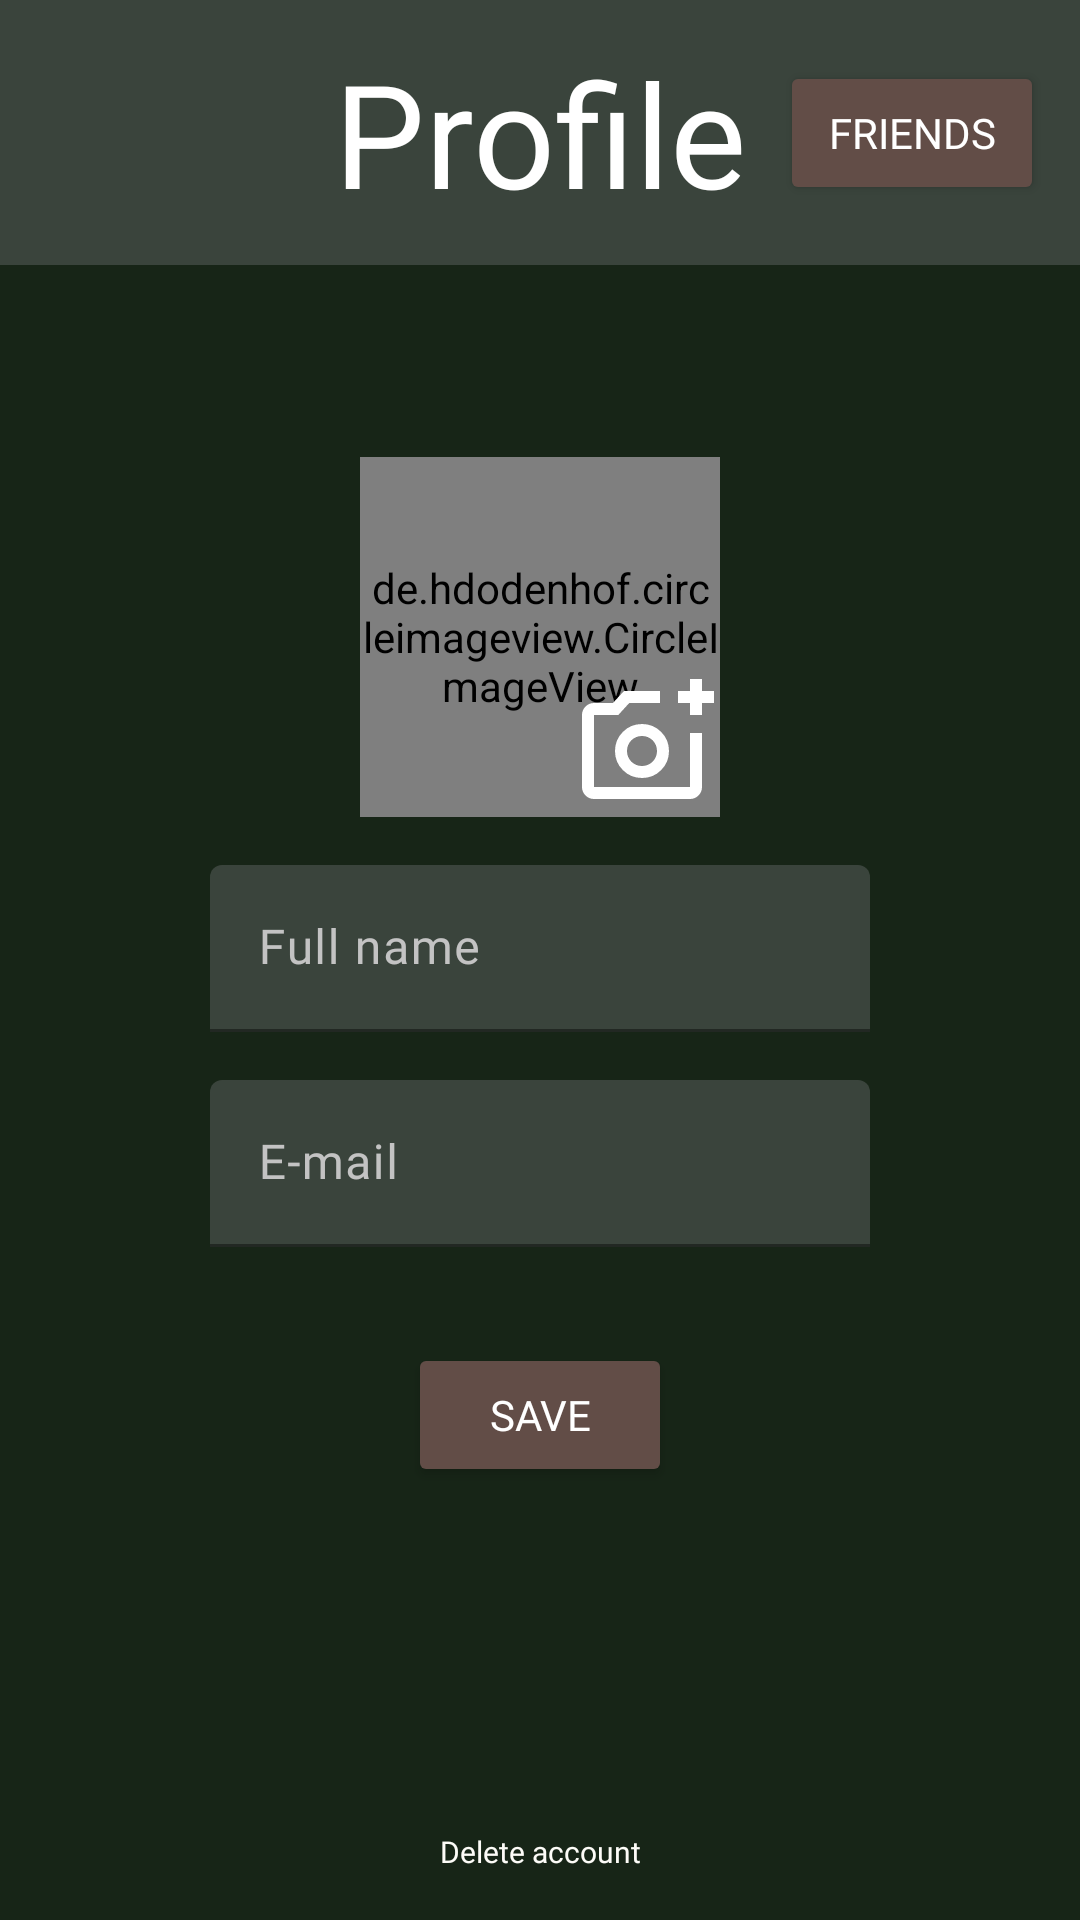

Icon bounding boxes for this 1080×1920 phone screenshot, format (x1, y1, x2, y2):
Add profile picture: (578, 673, 714, 799)
